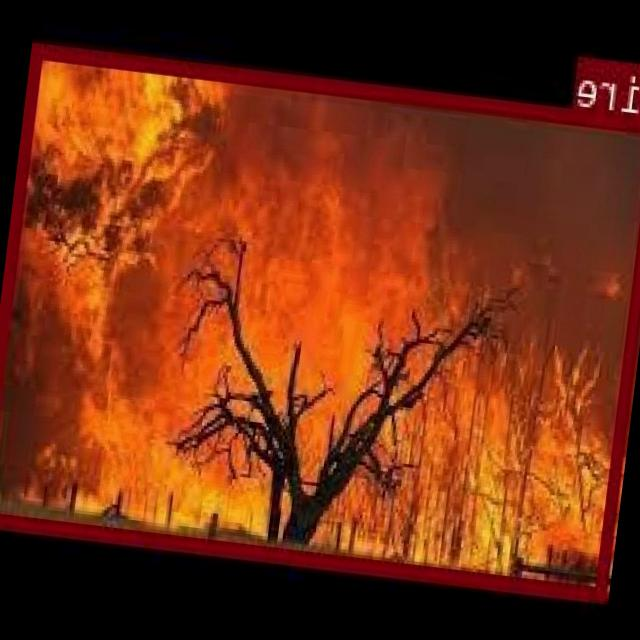fire: (0, 39, 640, 598)
